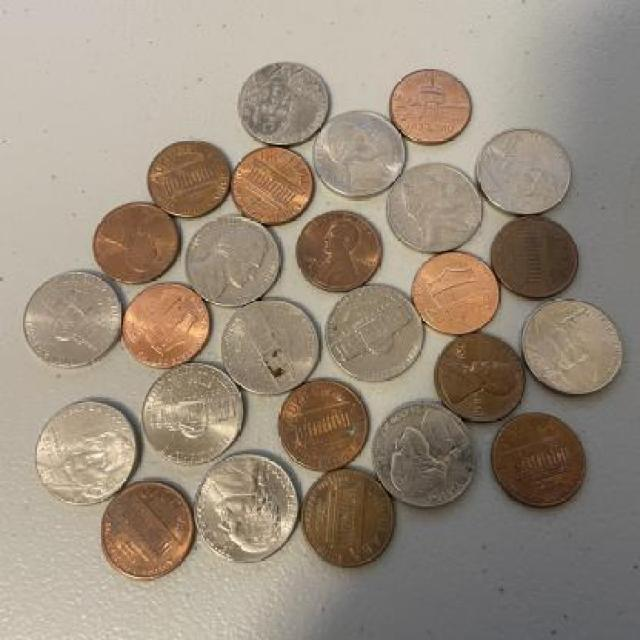Nickel: (372, 396, 477, 512), (195, 449, 300, 560), (34, 397, 138, 503), (518, 294, 626, 396), (144, 362, 243, 469), (222, 296, 322, 398), (23, 269, 122, 371), (325, 286, 423, 385), (386, 162, 484, 255), (188, 215, 284, 308), (475, 128, 571, 217), (312, 110, 408, 198), (236, 57, 332, 143)
Penny: (101, 478, 200, 580), (494, 412, 588, 508), (304, 468, 394, 566), (431, 334, 526, 426), (278, 377, 371, 468), (94, 198, 183, 288), (489, 214, 582, 300), (124, 282, 210, 369), (296, 209, 384, 294), (144, 137, 233, 220), (411, 250, 500, 332), (232, 146, 317, 229), (390, 66, 476, 146)
